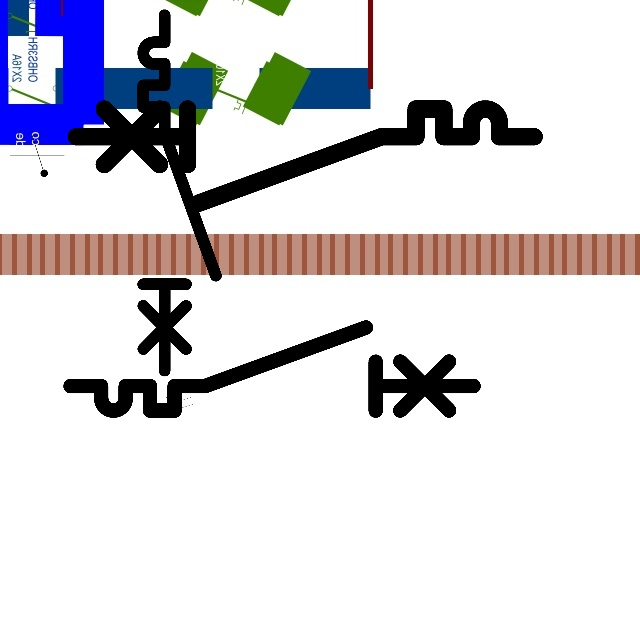interruptor_termomagnetico: (64, 97, 545, 215), (60, 317, 484, 421), (134, 6, 225, 380)
